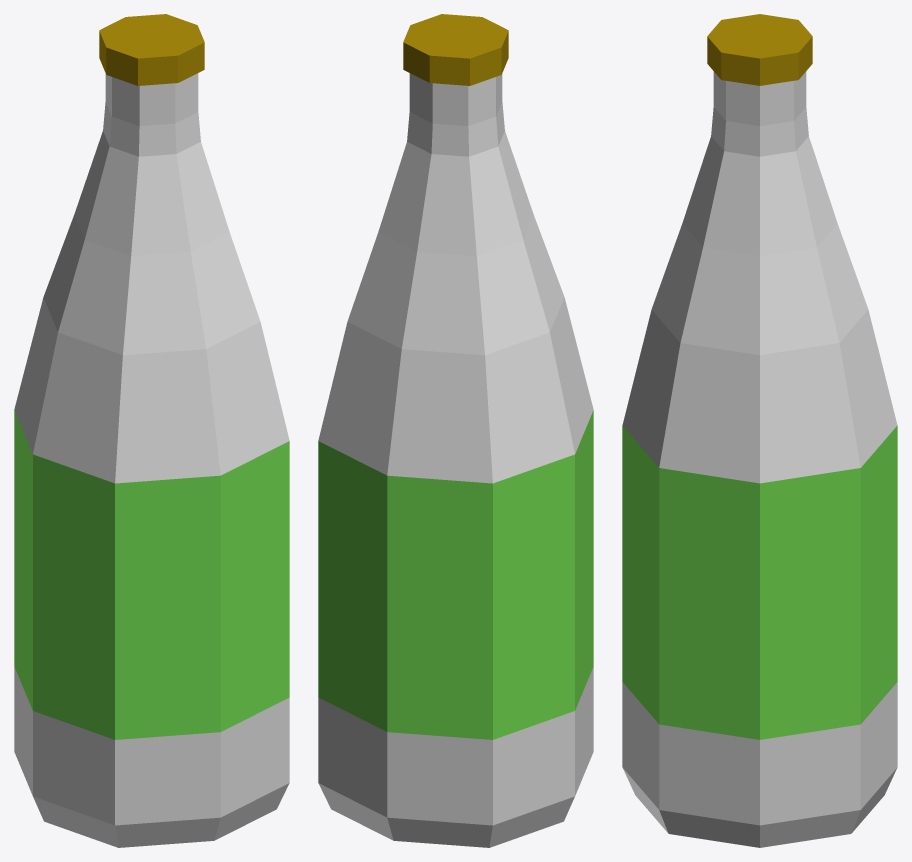
Rendered from applejuice.fbx.
The picture shows the model from 3 angles, left to right: view 1: azimuth 30°, elevation 25°; view 2: azimuth 150°, elevation 25°; view 3: azimuth 270°, elevation 25°; orthographic projection.
Parts seen in each view (by area): view 1: bottle, label, cap; view 2: bottle, label, cap; view 3: bottle, label, cap.
Boxes of the visible parts, bbox=[...] form: bottle: bbox=[14, 73, 289, 847]; label: bbox=[14, 410, 289, 739]; cap: bbox=[99, 14, 204, 85]; bottle: bbox=[318, 73, 593, 847]; label: bbox=[318, 410, 593, 739]; cap: bbox=[403, 14, 508, 85]; bottle: bbox=[622, 71, 897, 847]; label: bbox=[622, 425, 897, 739]; cap: bbox=[707, 14, 812, 85].
Bounding box in the file's own units: 97.38 × 296 × 97.38.
